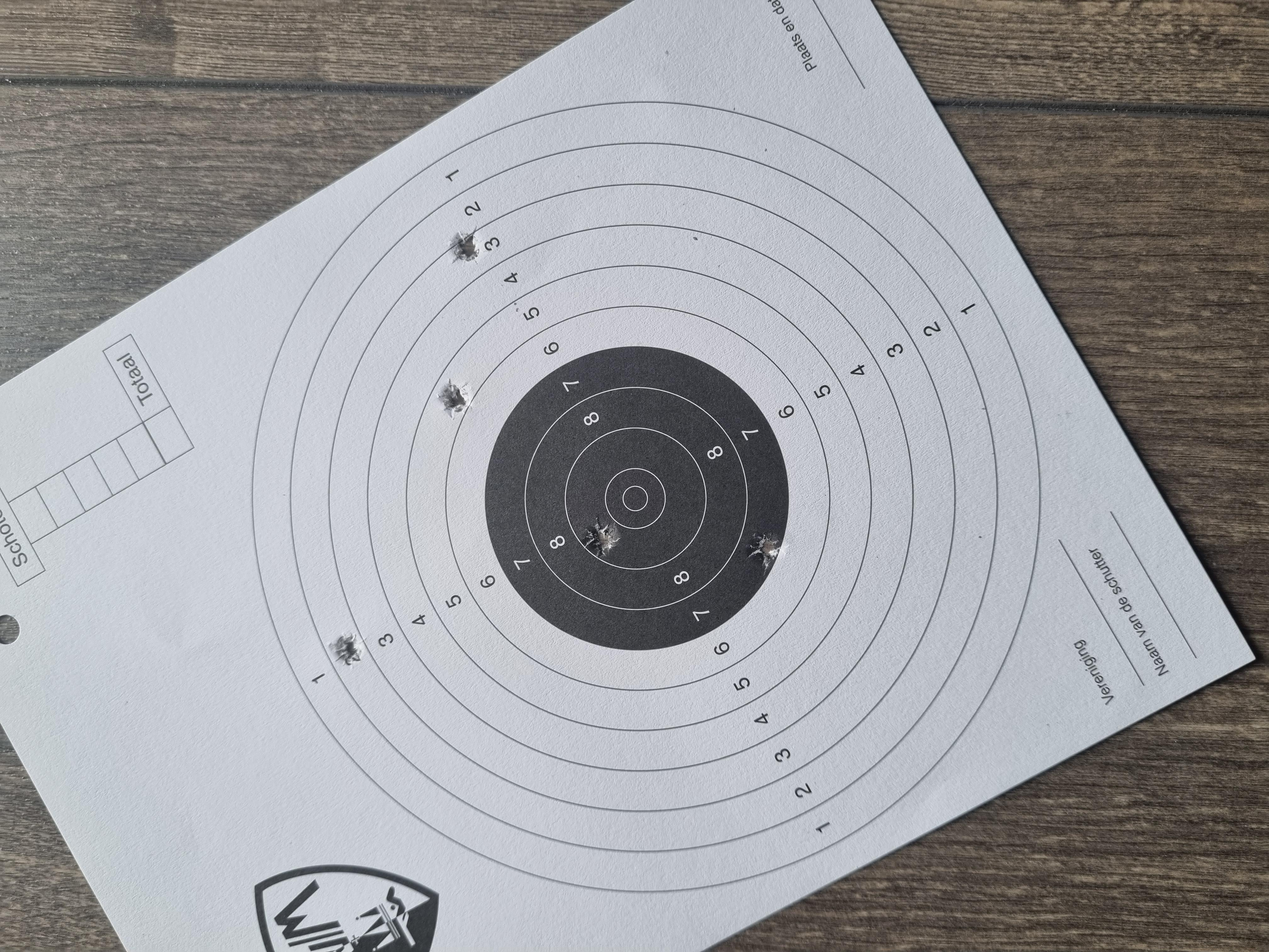hole: (521, 436, 577, 464), (708, 327, 761, 354), (510, 561, 559, 590), (915, 336, 965, 361), (380, 248, 425, 273)
